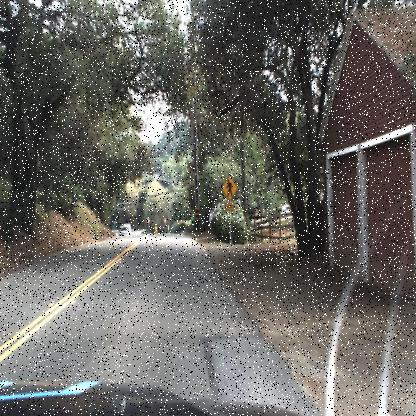car: (118, 226, 132, 237)
